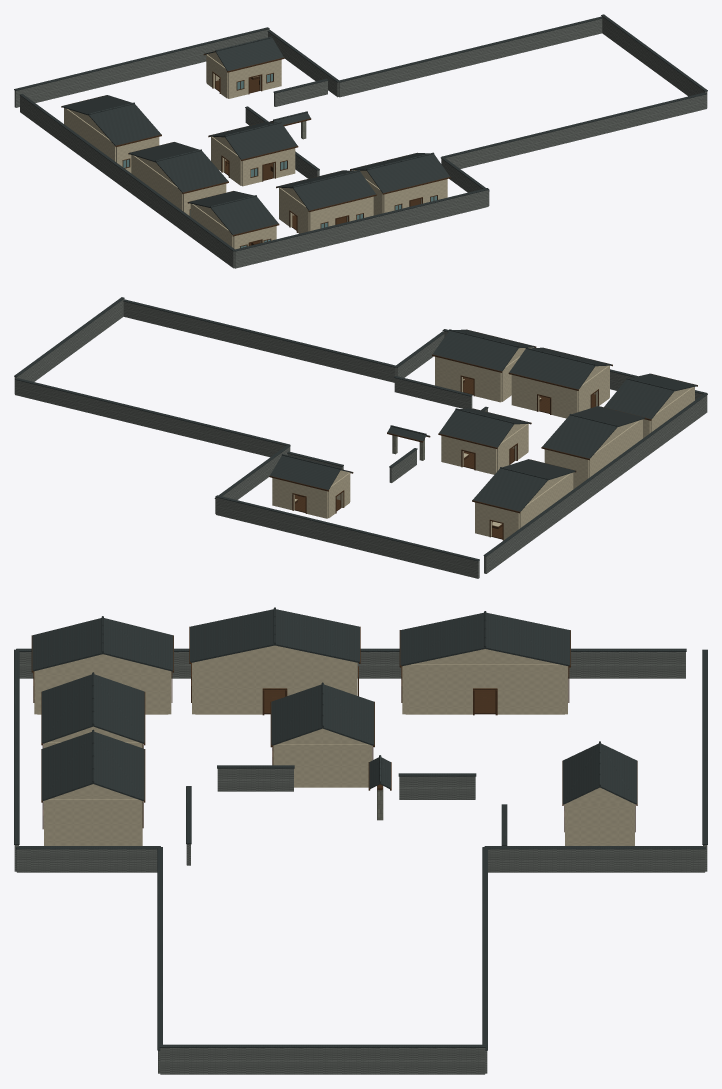
The model's file is street-buildings.glb.
3 renders of one model, top to bottom at view 1: azimuth 30°, elevation 25°; view 2: azimuth 150°, elevation 25°; view 3: azimuth 270°, elevation 25°, orthographic. The views are drawn at different scales.
Parts seen in each view (by area): view 1: SouthBoundary, ChurchNorthBoundary, ChurchSouthBoundary, NorthBoundary, WestBoundary, LaneHouse_B_Roof_S, LaneHouse_F_Roof_S, LaneHouse_C_Roof_S, LaneHouse_E_Roof_S, EastBoundary, LaneHouse_D_Roof_S, LaneHouse_A_Roof_S (+26 smaller); view 2: NorthBoundary, ChurchSouthBoundary, ChurchNorthBoundary, WestBoundary, LaneHouse_F_Roof_N, LaneHouse_B_Roof_N, LaneHouse_C_Roof_N, LaneHouse_E_Roof_N, LaneHouse_B_HollowWall_1, LaneHouse_F_HollowWall_1, EastBoundary, LaneHouse_D_Roof_N (+23 smaller); view 3: EastBoundary, LaneHouse_E_SideHollowWall_1, LaneHouse_C_SideHollowWall_1, NorthReturnBoundary, WestBoundary, LaneHouse_F_SideHollowWall_1, LaneHouse_D_SideHollowWall_1, SouthReturnBoundary, LaneHouse_E_Roof_N, LaneHouse_E_Roof_S, LaneHouse_C_Roof_N, LaneHouse_C_Roof_S (+26 smaller).
Boxes of the visible parts, x1,y1,x2,y2 form: SouthBoundary: [234, 190, 488, 268]; ChurchNorthBoundary: [338, 19, 602, 97]; ChurchSouthBoundary: [445, 94, 706, 168]; NorthBoundary: [14, 29, 269, 107]; WestBoundary: [20, 95, 234, 268]; LaneHouse_B_Roof_S: [293, 171, 375, 210]; LaneHouse_F_Roof_S: [366, 154, 449, 193]; LaneHouse_C_Roof_S: [155, 150, 228, 192]; LaneHouse_E_Roof_S: [88, 104, 161, 145]; EastBoundary: [601, 16, 707, 107]; LaneHouse_D_Roof_S: [225, 123, 297, 159]; LaneHouse_A_Roof_S: [211, 196, 278, 234]; NorthBoundary: [216, 497, 479, 578]; ChurchSouthBoundary: [123, 301, 396, 382]; ChurchNorthBoundary: [15, 380, 285, 457]; WestBoundary: [484, 395, 707, 573]; LaneHouse_F_Roof_N: [432, 330, 518, 371]; LaneHouse_B_Roof_N: [509, 349, 595, 389]; LaneHouse_C_Roof_N: [542, 415, 617, 458]; LaneHouse_E_Roof_N: [472, 468, 547, 511]; LaneHouse_B_HollowWall_1: [511, 375, 578, 418]; LaneHouse_F_HollowWall_1: [435, 356, 501, 402]; EastBoundary: [14, 299, 124, 393]; LaneHouse_D_Roof_N: [439, 409, 514, 447]; EastBoundary: [160, 1048, 485, 1074]; LaneHouse_E_SideHollowWall_1: [405, 664, 564, 714]; LaneHouse_C_SideHollowWall_1: [195, 661, 354, 714]; NorthReturnBoundary: [488, 849, 705, 872]; WestBoundary: [19, 652, 685, 678]; LaneHouse_F_SideHollowWall_1: [47, 799, 139, 845]; LaneHouse_D_SideHollowWall_1: [276, 744, 368, 787]; SouthReturnBoundary: [16, 849, 157, 872]; LaneHouse_E_Roof_N: [485, 612, 570, 666]; LaneHouse_E_Roof_S: [400, 612, 485, 666]; LaneHouse_C_Roof_N: [275, 609, 359, 662]; LaneHouse_C_Roof_S: [190, 609, 274, 662].
Size of the model in its own units: 98.57 by 8.52 by 72.59.
Materials: 7 (5 with a texture image).
